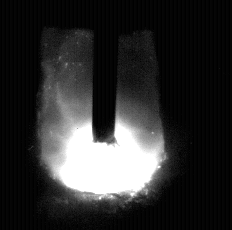arame: (92, 0, 118, 145)
poca: (38, 0, 166, 230)
